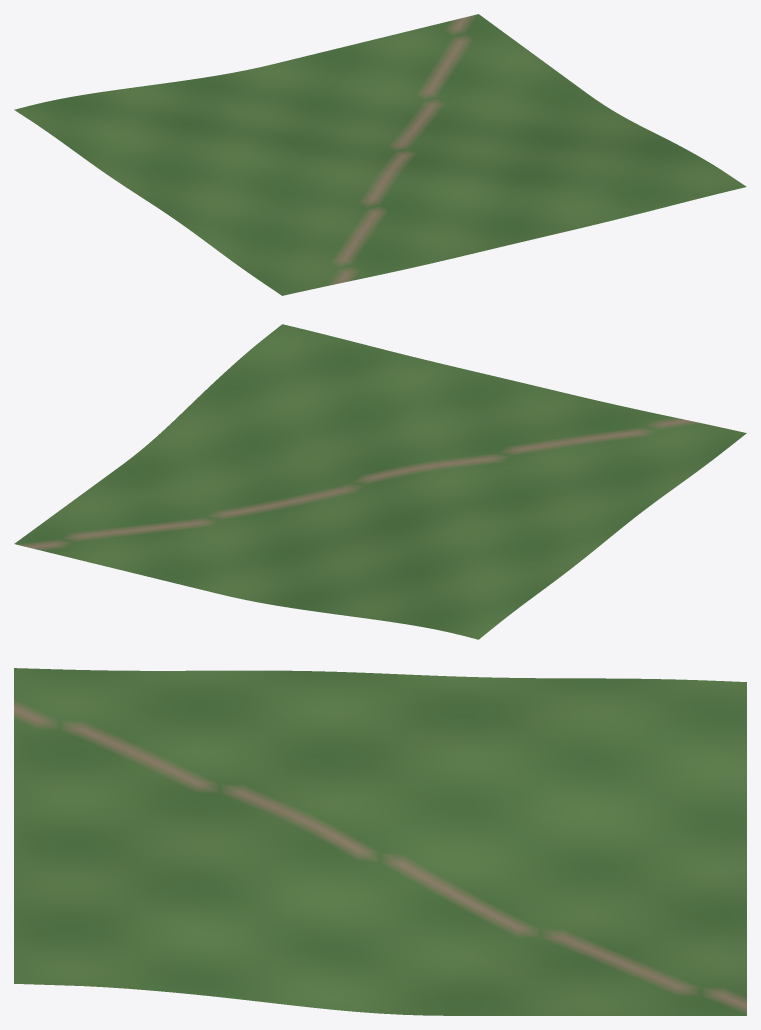
File: chunk_7_6.glb
3 views of the same model, one above another, from view 1: azimuth 30°, elevation 25°; view 2: azimuth 150°, elevation 25°; view 3: azimuth 270°, elevation 25° (orthographic). The views are drawn at different scales.
Size of the model in its own units: 512 by 29.33 by 512.
